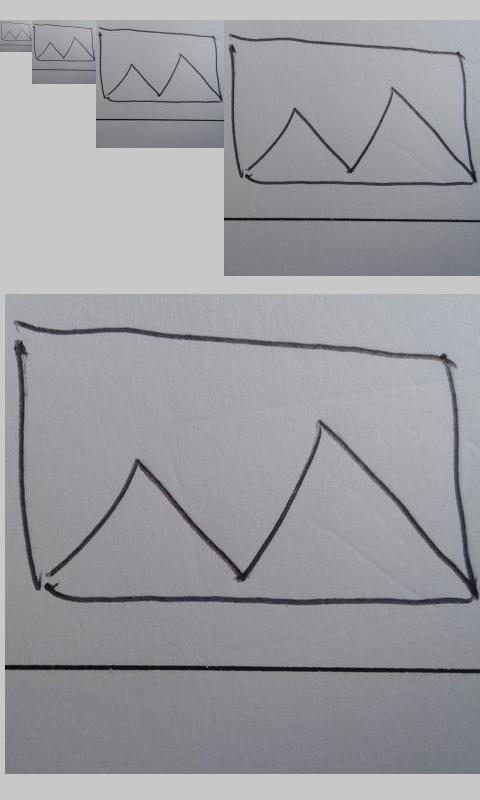image_view: (13, 319, 474, 614), (228, 31, 479, 192), (99, 26, 222, 104), (33, 23, 95, 62), (1, 21, 32, 42)
